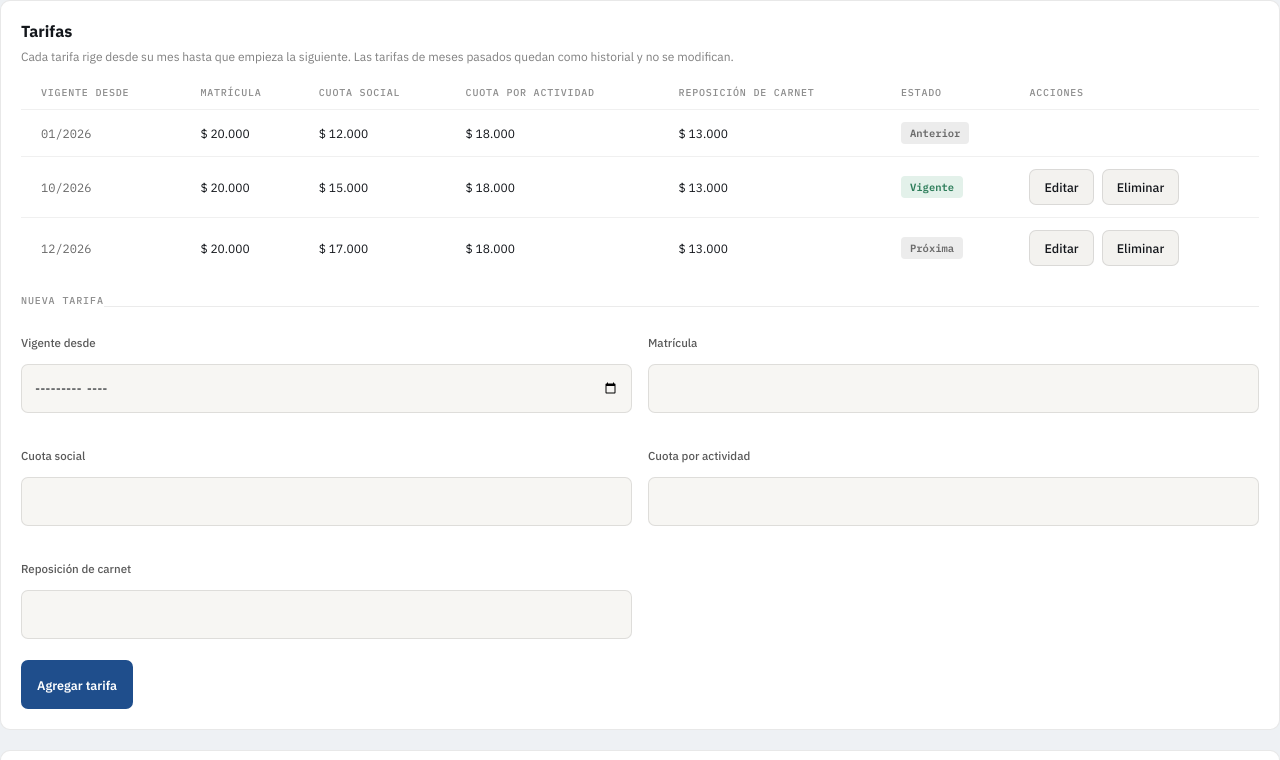
Test: PricingView › maps the past-month conflict to Spanish copy
Check: the table named "Tarifas" is shown, box [21,76,1259,278]
Click the button with aria-label "Editar tarifa 12/2026" at (1062, 248), box [1029,230,1094,266]
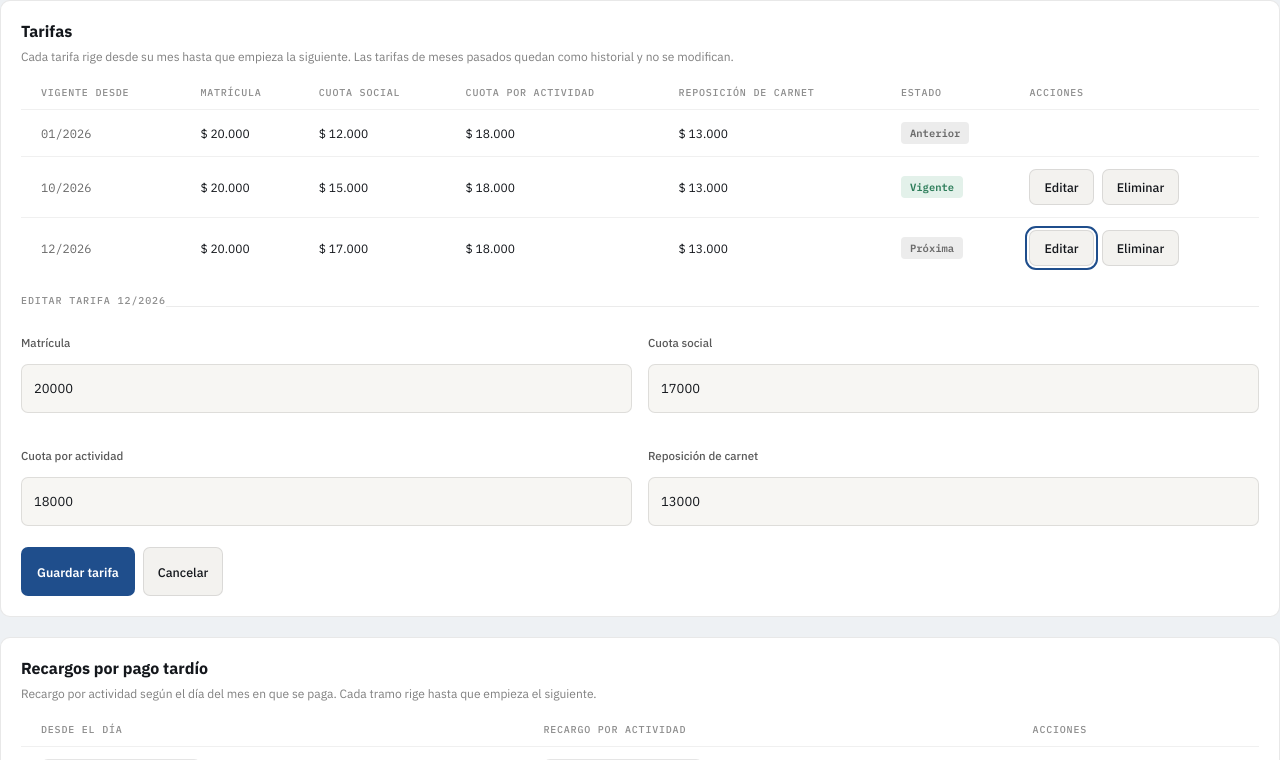
Click the button "Guardar tarifa" at (78, 572), box [21,547,135,596]
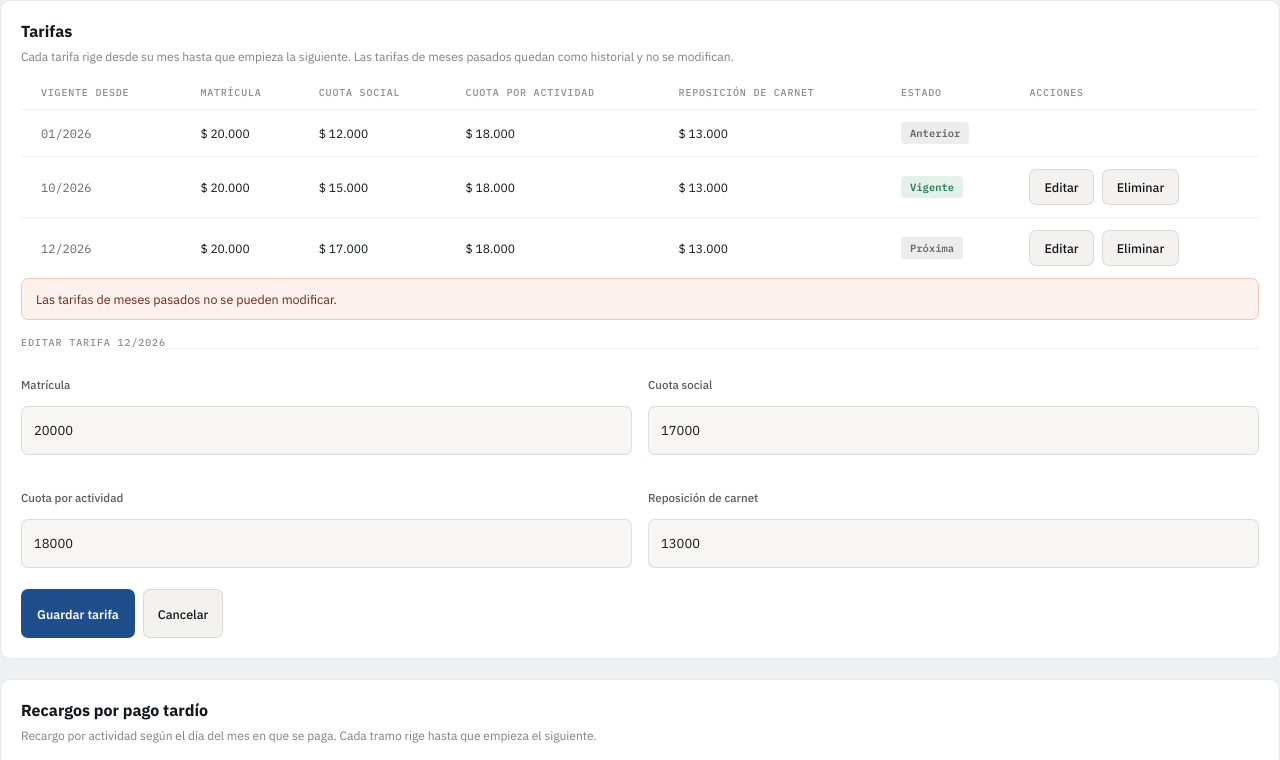
Check: the message reads "Las tarifas de meses pasados no se pueden modificar.", box [36,291,337,307]
